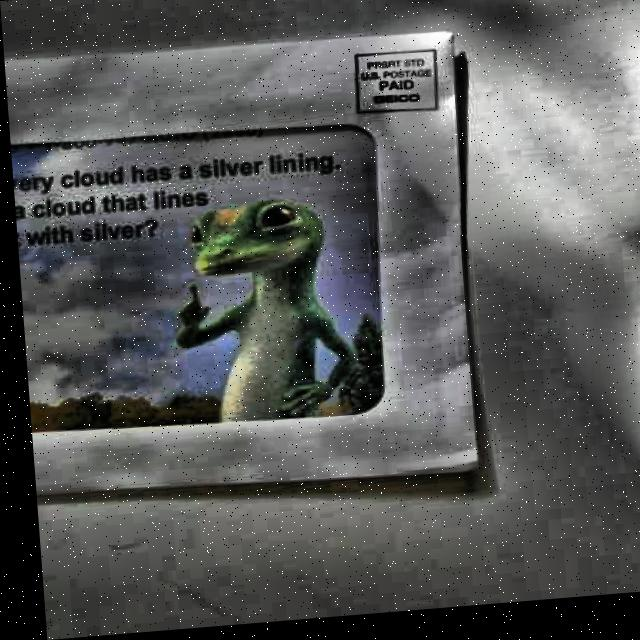paper: (5, 29, 489, 506)
